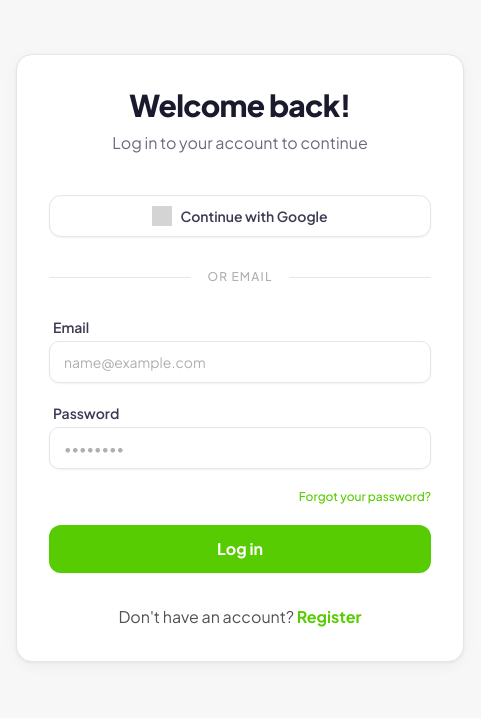
Test: LoginForm › displays error message on failed login
This screenshot has width=481, height=718.
Step 1. Type "wrong@example.com" into the field labelled "Email" → (240, 362), box x1=49 y1=341 x2=431 y2=383
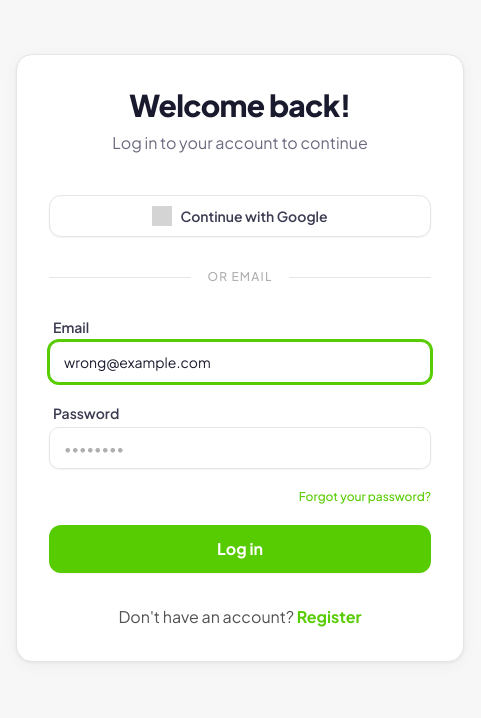
Step 2. Type "wrongpass" into the password field labelled "Password" → (240, 448), box x1=49 y1=427 x2=431 y2=469
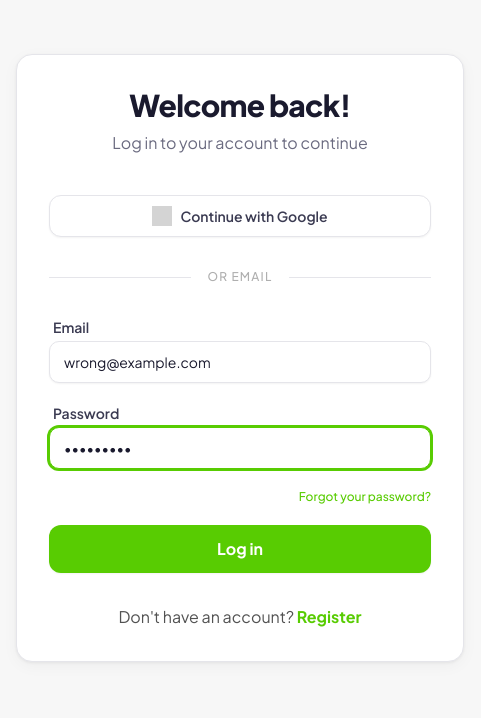
Step 3. Click the button "Log in" → (240, 549), box x1=49 y1=525 x2=431 y2=573
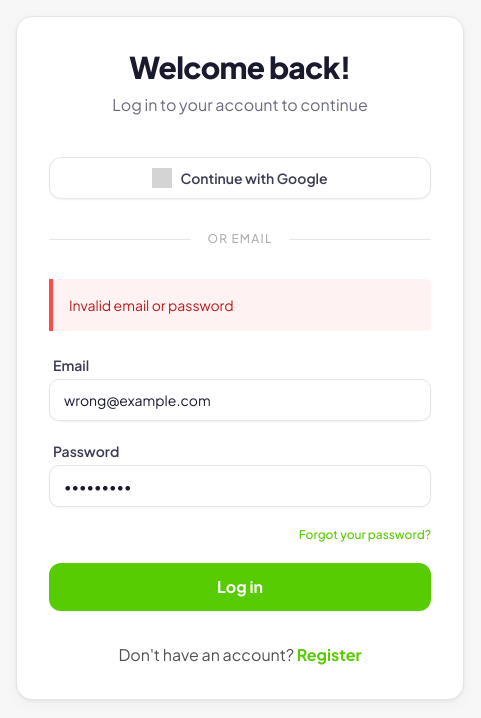
Check: the text "Invalid email or password" is shown, box x1=49 y1=279 x2=431 y2=331
